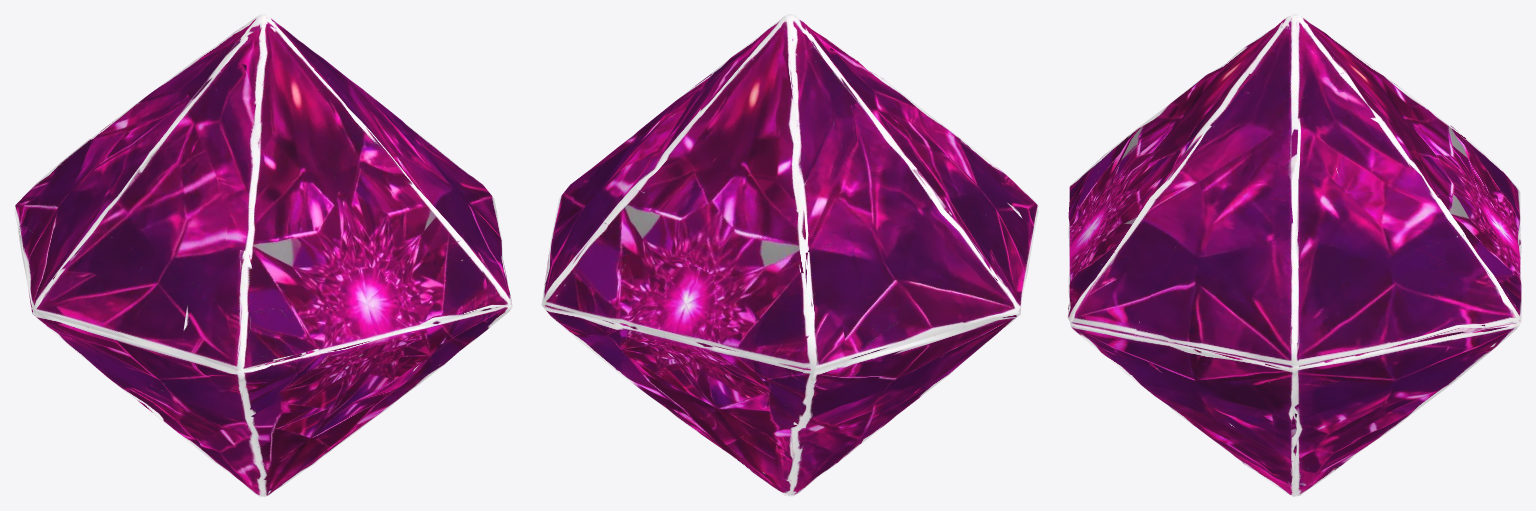
File: desolation.glb
3 views of the same model, side by side, from view 1: azimuth 30°, elevation 25°; view 2: azimuth 150°, elevation 25°; view 3: azimuth 270°, elevation 25° (orthographic).
Bounding box in the file's own units: 1.9 × 1.9 × 1.63.
Materials: 1 (1 with a texture image).
